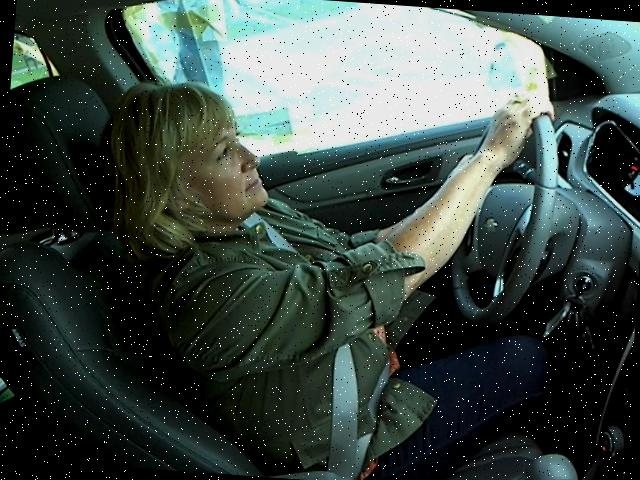c0 - Safe Driving: (86, 58, 565, 406)
